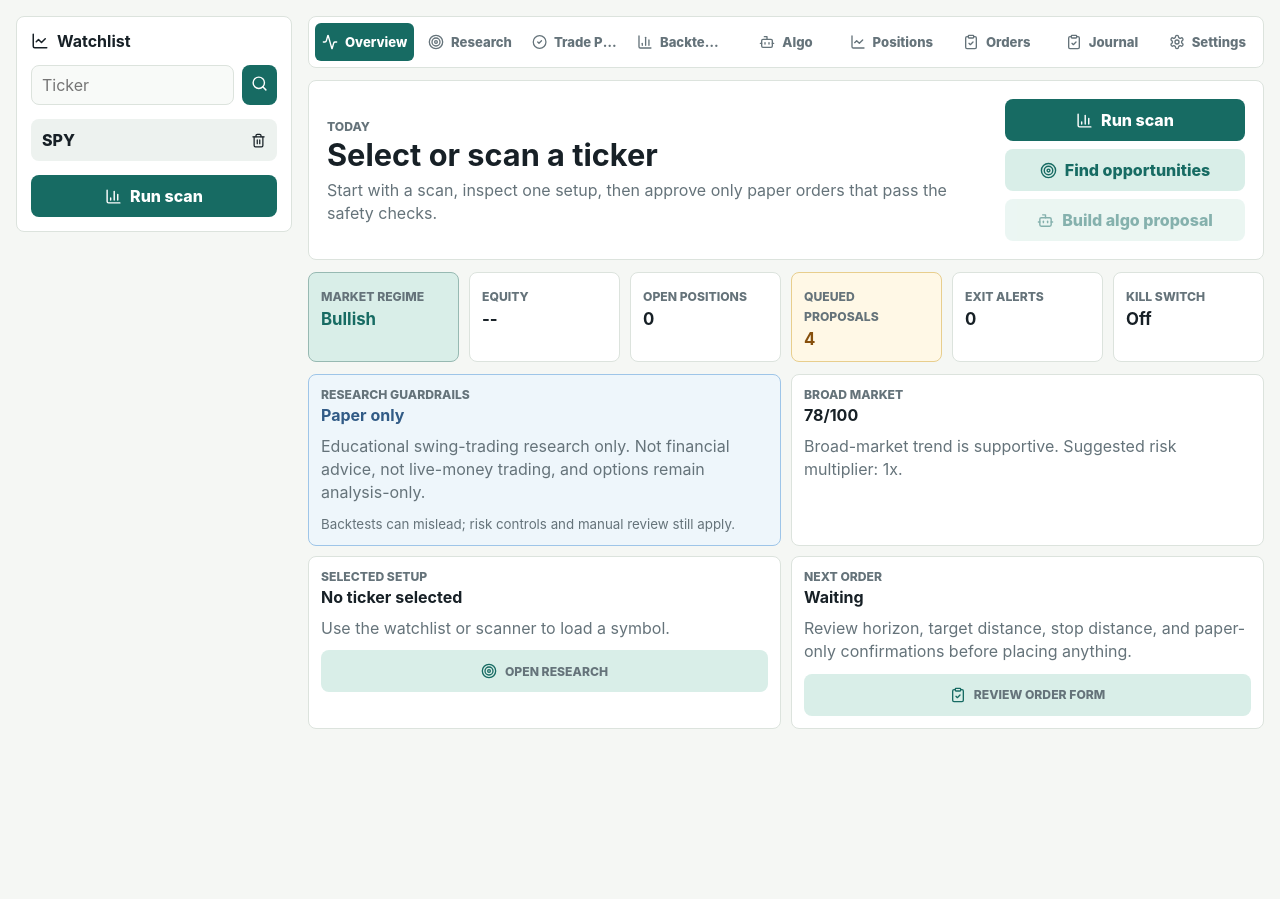
Scenario: dashboard › shows the full saved algo proposal queue instead of truncating to four cards
This screenshot has width=1280, height=899.
Click the button "Algo": (786, 42) top-left (736, 23), bottom-right (836, 61)
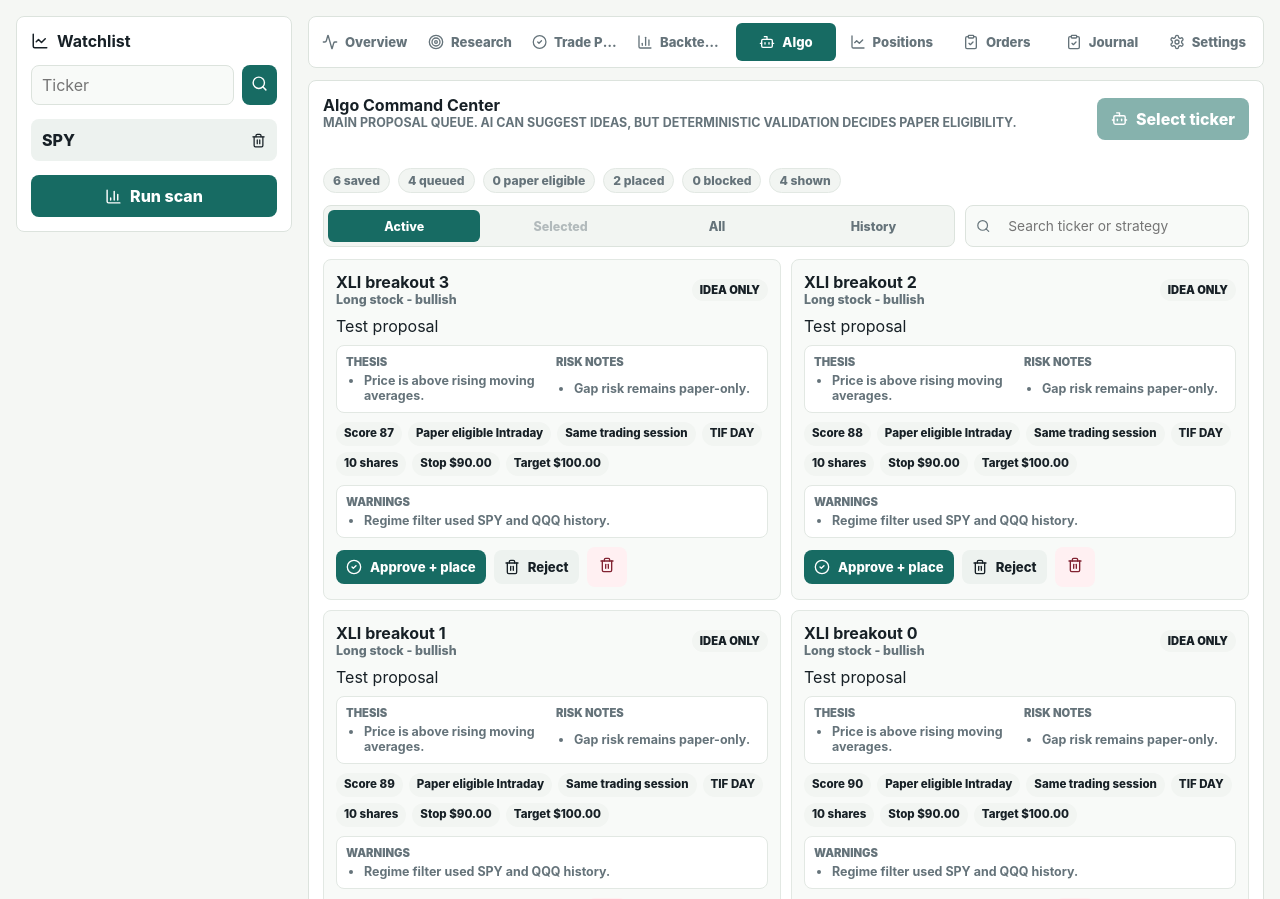
Check: the text "6 saved" is shown, box top-left (323, 168), bottom-right (390, 194)
Check: the text "Thesis" below "XLI breakout 3" is shown, box top-left (346, 356), bottom-right (387, 370)
Check: the list item "Price is above rising moving averages." below "XLI breakout 3" is shown, box top-left (364, 374), bottom-right (534, 404)
In the field named "Search algo proposals": (1118, 226) top-left (998, 206), bottom-right (1238, 246), type "gap risk"
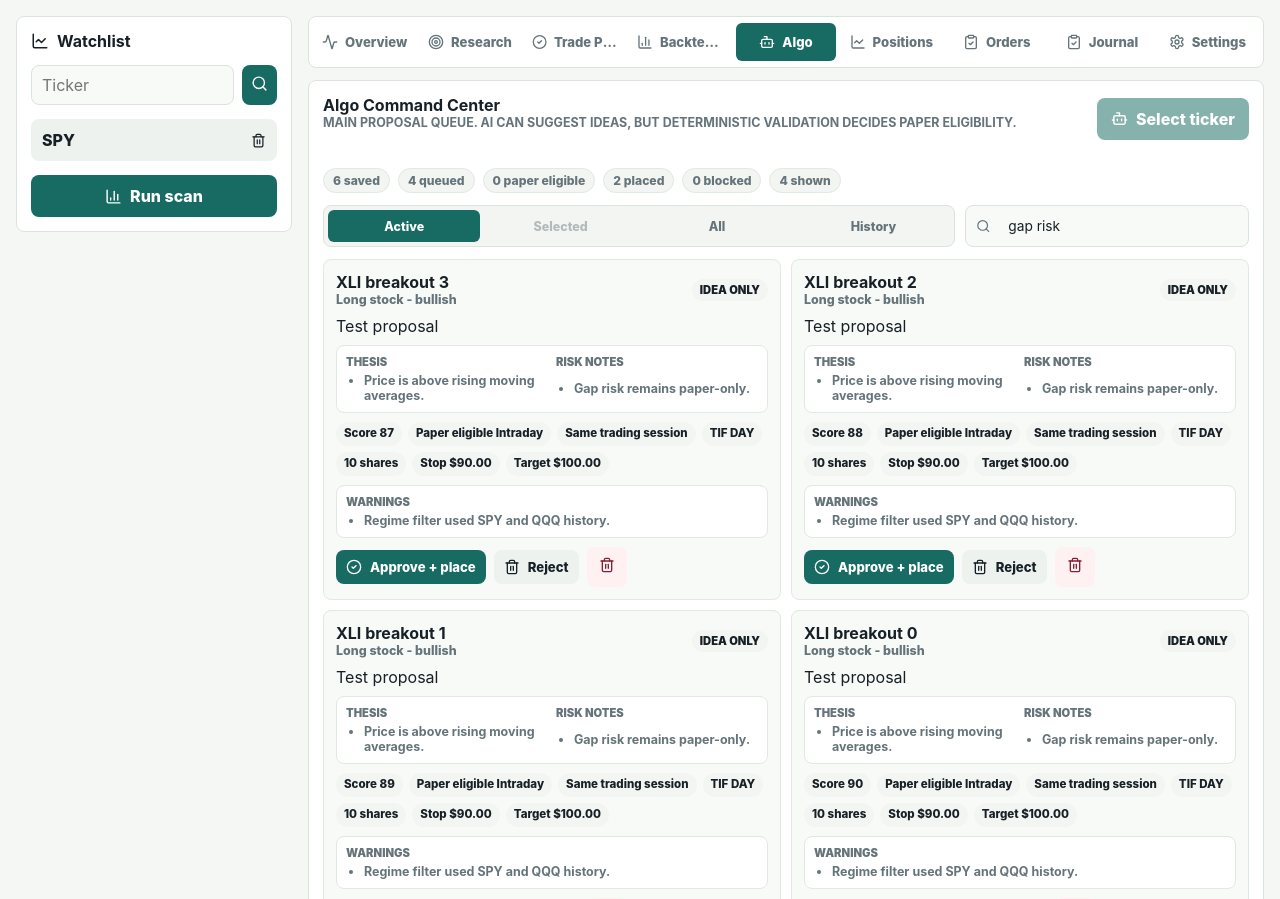
Check: the text "4 shown" is shown, box top-left (769, 168), bottom-right (841, 194)
Clear the field named "Search algo proposals": (1118, 226) top-left (998, 206), bottom-right (1238, 246)
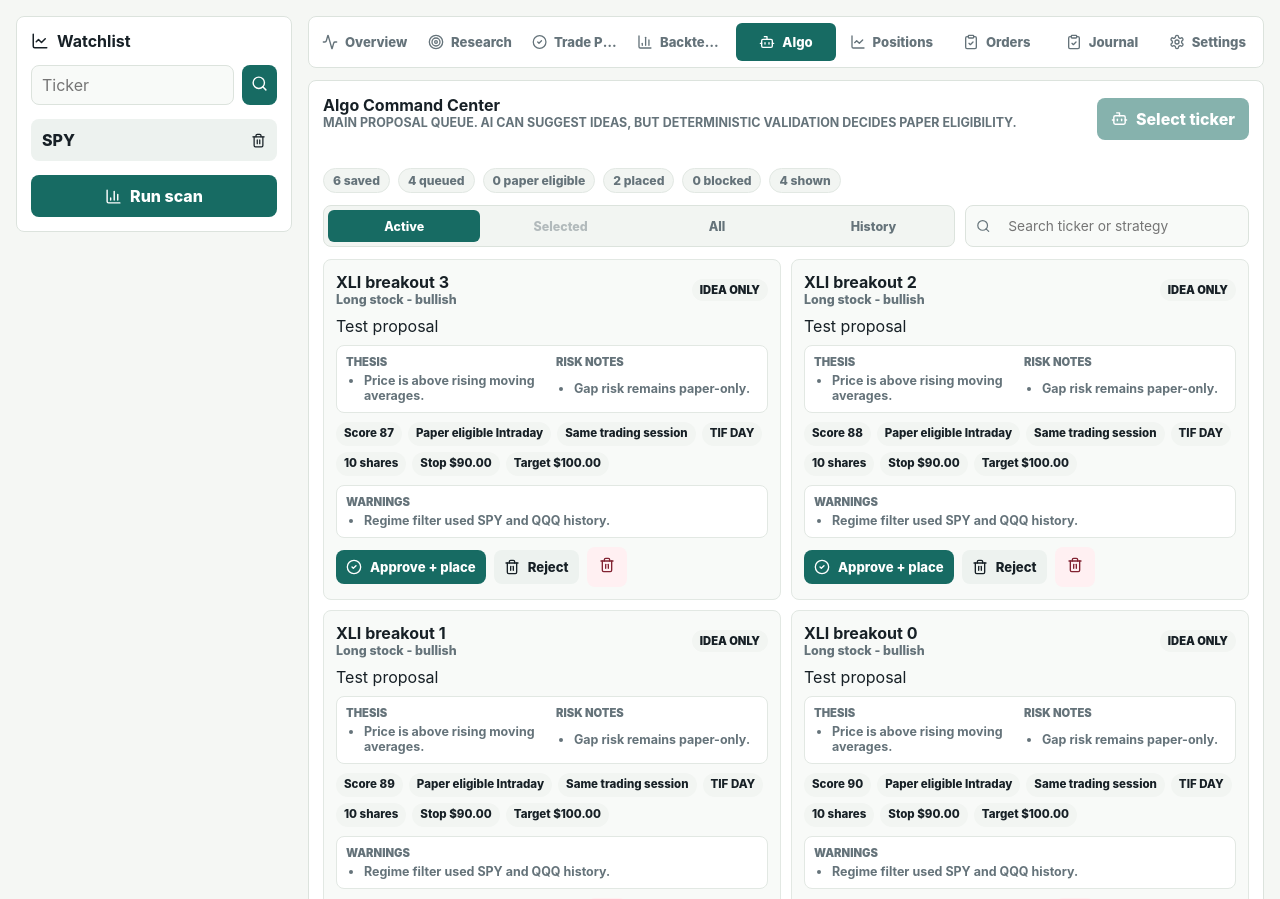
Click the button "All": (717, 226) top-left (641, 210), bottom-right (793, 242)
(page scrolled)
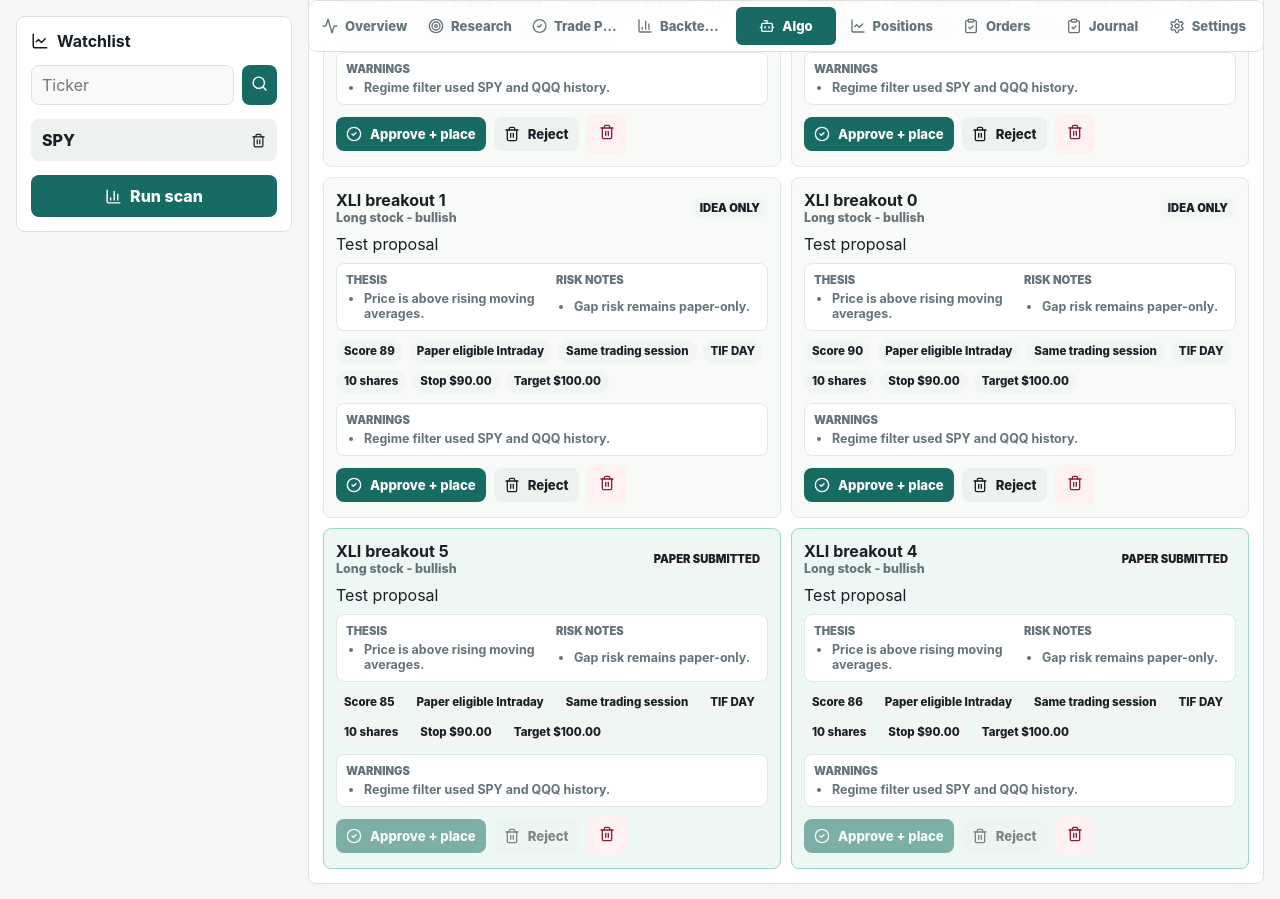
Check: the text "XLI breakout 5" is shown, box top-left (336, 542), bottom-right (457, 562)
